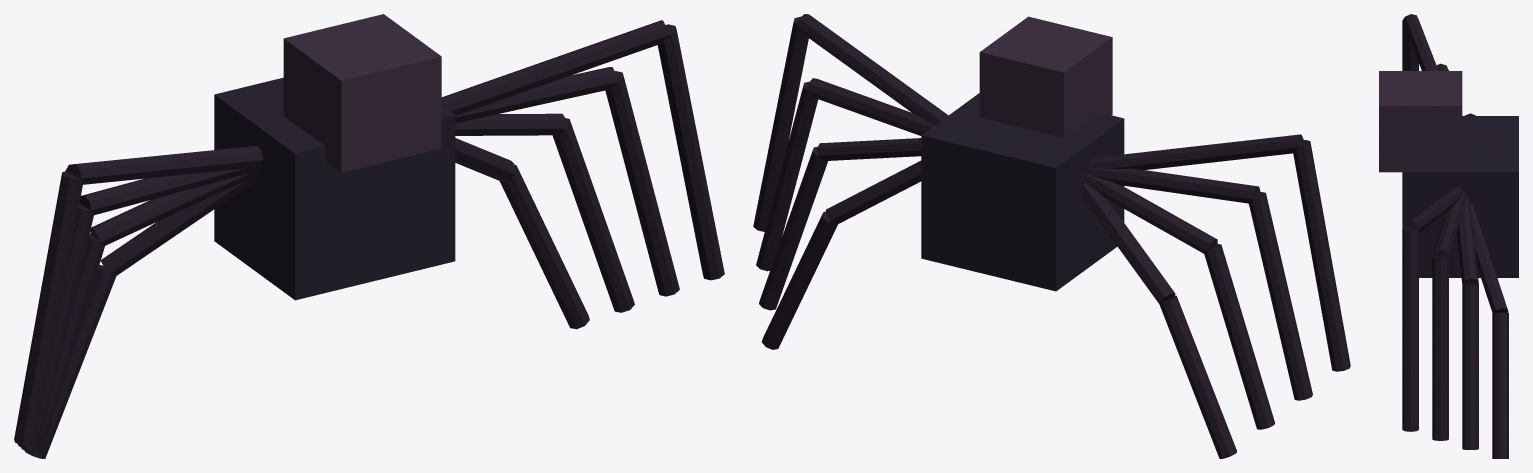
The model's file is spider.glb.
3 renders of one model, left to right at view 1: azimuth 30°, elevation 25°; view 2: azimuth 150°, elevation 25°; view 3: azimuth 270°, elevation 25°, orthographic. The views are drawn at different scales.
Parts seen in each view (by area): view 1: Spider Drop dimensional effect.001; view 2: Spider Drop dimensional effect.001; view 3: Spider Drop dimensional effect.001.
Part boxes in pixels (<box>): Spider Drop dimensional effect.001: <box>14,14,724,458</box>; Spider Drop dimensional effect.001: <box>753,14,1350,458</box>; Spider Drop dimensional effect.001: <box>1379,14,1518,458</box>.
Size of the model in its own units: 1.77 by 0.9203 by 0.42.
2 materials, 2 textured.
